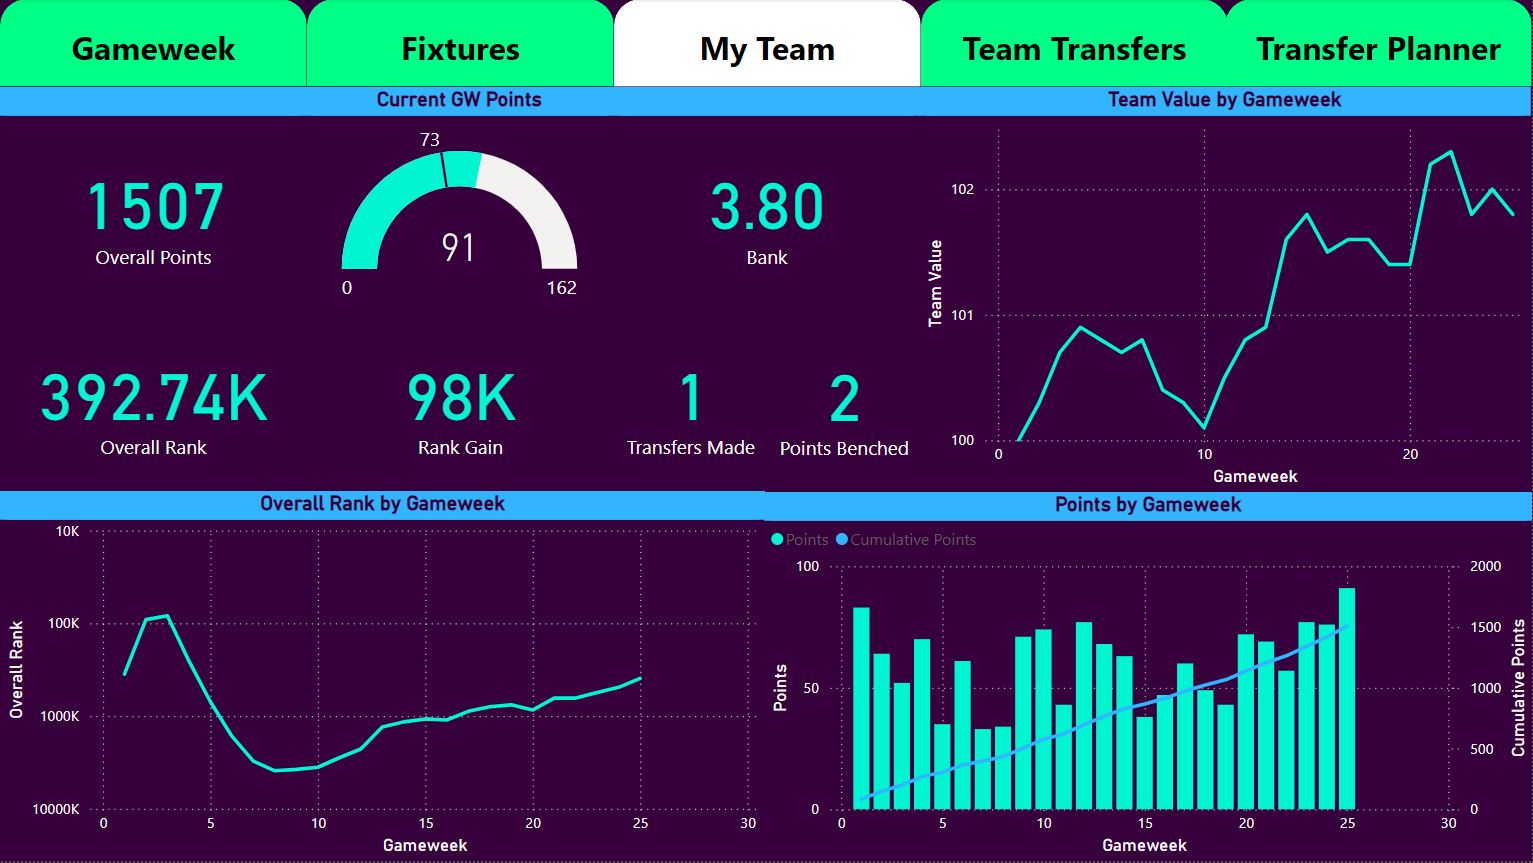

Layout of this report page (visuals, bound fields, positions):
{"tool":"powerbi","page":{"name":"My Team","canvas":[1280,720],"ordinal":2},"visuals":[{"type":"shape","box":[0,0,256.4,73.3],"z":0},{"type":"shape","box":[256.4,0,256.4,73.3],"z":1000},{"type":"shape","box":[512.9,0,256.5,73.4],"z":2000},{"type":"shape","box":[769.4,0,256.5,73.4],"z":3000},{"type":"shape","box":[1023.5,0,256.5,73.4],"z":4000},{"type":"card","title":" ","fields":{"Values":["Sum(dbt_marts my_team.points)"]},"box":[0,73.3,256.4,187.8],"z":5000},{"type":"gauge","title":"Current GW Points","fields":{"Y":["Sum(dbt_marts my_team.points)"],"TargetValue":["Sum(dbt_marts my_team.gameweek_average_score)"],"MaxValue":["Sum(dbt_marts my_team.gameweek_highest_score)"]},"box":[255,73.3,258,187.8],"z":6000},{"type":"lineStackedColumnComboChart","title":"Points by Gameweek","fields":{"Category":["dbt_marts my_team.gameweek_id"],"Y":["Sum(dbt_marts my_team.points)"],"Y2":["dbt_marts my_team.Cumulative Points"]},"box":[638.1,411.4,641.9,308.3],"z":7000},{"type":"lineChart","fields":{"Y":["Sum(dbt_marts my_team.team_value)"],"Category":["dbt_marts my_team.gameweek_id"]},"box":[768,73.3,511,338.1],"z":8000},{"type":"lineChart","title":"Overall Rank by Gameweek","fields":{"Y":["Sum(dbt_marts my_team.overall_rank)"],"Category":["dbt_marts my_team.gameweek_id"]},"box":[0,411.2,639.4,308.4],"z":9000},{"type":"card","title":" ","fields":{"Values":["Sum(dbt_marts my_team.bank)"]},"box":[511.8,73.3,257.3,187.8],"z":10000},{"type":"card","fields":{"Values":["Sum(dbt_marts my_team.overall_rank)"]},"box":[0,261,256.5,150.3],"z":11000},{"type":"card","fields":{"Values":["dbt_marts my_team.Rank Gain"]},"box":[256.5,261,256.5,150.3],"z":12000},{"type":"card","fields":{"Values":["Sum(dbt_marts my_team.gameweek_transfer_count)"]},"box":[512.9,261,128.8,150.3],"z":13000},{"type":"card","fields":{"Values":["Sum(dbt_marts my_team.points_on_bench)"]},"box":[641.4,261.1,127.7,150.3],"z":14000},{"type":"actionButton","box":[45.2,24.9,158.2,39.5],"z":15000},{"type":"actionButton","box":[327.6,24.9,116.4,39.5],"z":16000},{"type":"actionButton","box":[803.4,25.3,194.5,38.9],"z":17000},{"type":"actionButton","box":[1041.7,25.3,219.8,38.9],"z":18000}]}

Visuals, with their boxes in screenshot pixels (x1, y1, x2, y2), scaled from the page's 1280x720 canvas onto the 1533x863 screenshot:
shape: crop(0, 0, 307, 88)
shape: crop(307, 0, 614, 88)
shape: crop(614, 0, 921, 88)
shape: crop(921, 0, 1229, 88)
shape: crop(1226, 0, 1532, 88)
" " card: crop(0, 88, 307, 313)
"Current GW Points" gauge: crop(305, 88, 614, 313)
"Points by Gameweek" lineStackedColumnComboChart: crop(764, 493, 1532, 862)
lineChart - Sum(dbt_marts my_team.team_value) x dbt_marts my_team.gameweek_id: crop(920, 88, 1532, 493)
"Overall Rank by Gameweek" lineChart: crop(0, 493, 766, 862)
" " card: crop(613, 88, 921, 313)
card - Sum(dbt_marts my_team.overall_rank): crop(0, 313, 307, 493)
card - dbt_marts my_team.Rank Gain: crop(307, 313, 614, 493)
card - Sum(dbt_marts my_team.gameweek_transfer_count): crop(614, 313, 769, 493)
card - Sum(dbt_marts my_team.points_on_bench): crop(768, 313, 921, 493)
actionButton: crop(54, 30, 244, 77)
actionButton: crop(392, 30, 532, 77)
actionButton: crop(962, 30, 1195, 77)
actionButton: crop(1248, 30, 1511, 77)
